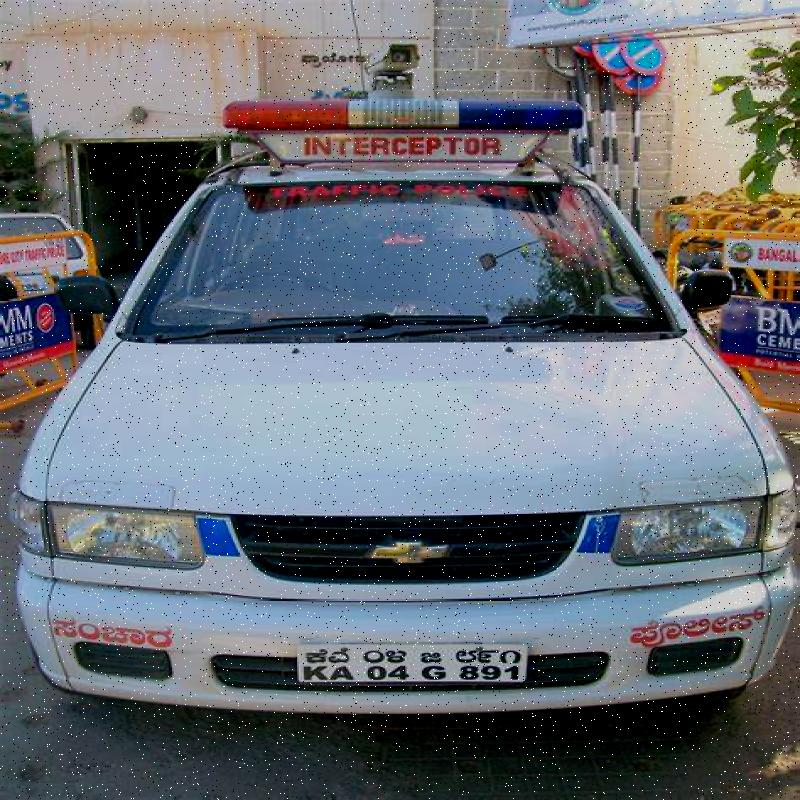AmbulanceSiren: (208, 67, 592, 156)
